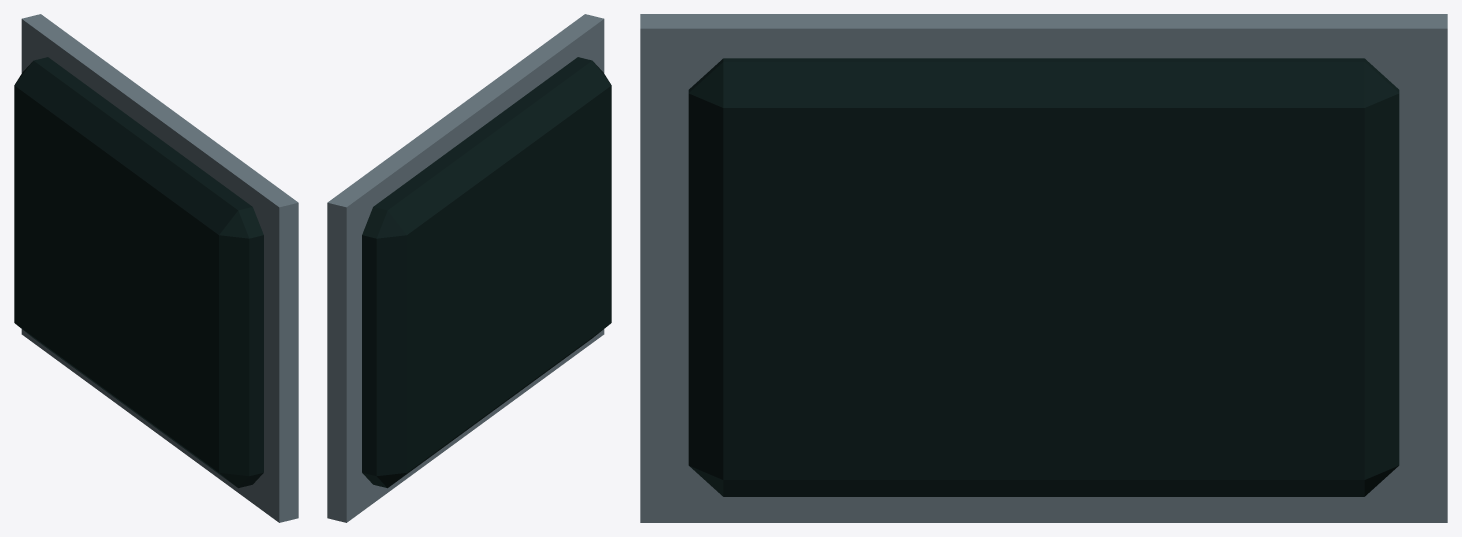
The model's file is plaka 16 emboss.fbx.
3 renders of one model, left to right at view 1: azimuth 30°, elevation 25°; view 2: azimuth 150°, elevation 25°; view 3: azimuth 270°, elevation 25°, orthographic. The views are drawn at different scales.
Visible parts, largest first — view 1: polySurface1960; view 2: polySurface1960; view 3: polySurface1960.
Part boxes in pixels (<box>): polySurface1960: <box>14,14,298,522</box>; polySurface1960: <box>327,14,611,522</box>; polySurface1960: <box>640,14,1447,522</box>.
Bounding box in the file's own units: 35.46 × 139 × 206.
